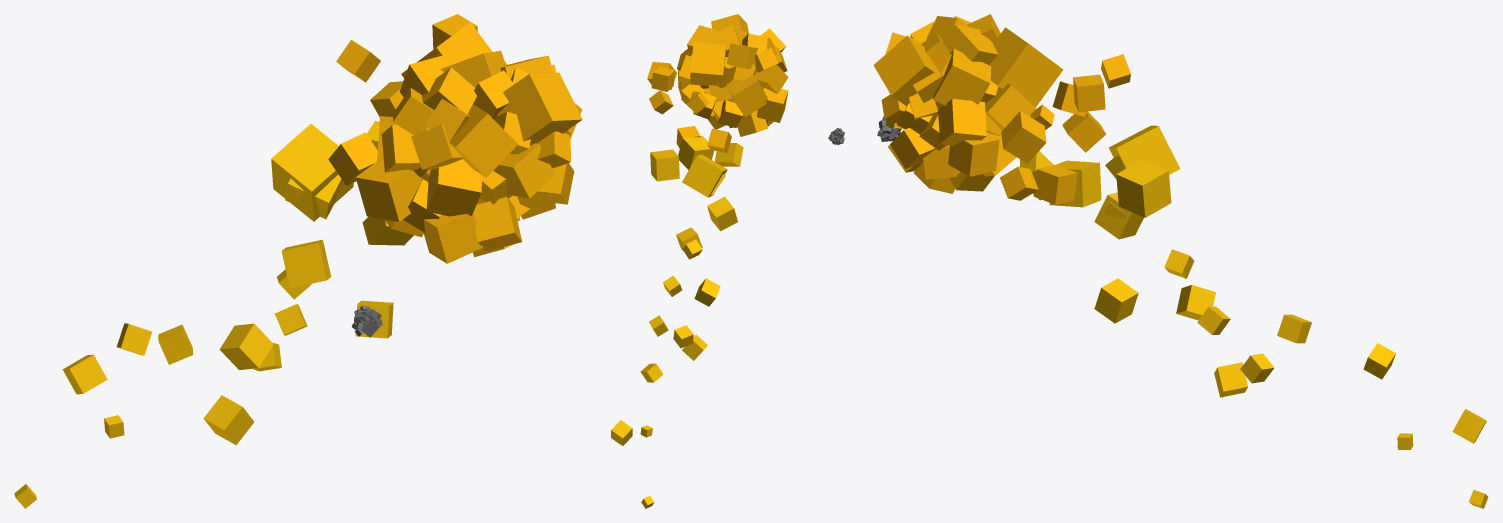
The model's file is harue_sun.obj.
The picture shows the model from 3 angles, left to right: view 1: azimuth 30°, elevation 25°; view 2: azimuth 150°, elevation 25°; view 3: azimuth 270°, elevation 25°; orthographic projection. The views are drawn at different scales.
Parts seen in each view (by area): view 1: s.0171, s.0127, s.0141, s.0128, s.0130, s.0143, s.0124, s.0144, s.0173, s.0177, s.0166, s.0181 (+25 smaller); view 2: s.0157, s.0171, s.0136, s.0170, s.0168, s.0141, s.0173, s.0138, s.0140, s.0142, s.0167, s.0126 (+19 smaller); view 3: s.0157, s.0170, s.0127, s.0155, s.0154, s.0171, s.0153, s.0160, s.0162, s.0126, s.0168, s.0178 (+14 smaller).
Boxes of the visible parts, x1,y1,x2,y2 form: s.0171: (271,124,353,221); s.0127: (497,72,582,145); s.0141: (355,161,422,221); s.0128: (449,105,518,177); s.0130: (426,159,482,216); s.0143: (423,213,482,263); s.0124: (493,143,555,198); s.0144: (473,197,521,251); s.0173: (281,239,331,288); s.0177: (219,323,273,369); s.0166: (328,132,377,185); s.0181: (203,395,254,444); s.0157: (690,42,725,85); s.0171: (682,154,727,197); s.0136: (726,75,767,116); s.0170: (650,149,679,181); s.0168: (678,136,714,170); s.0141: (757,88,788,122); s.0173: (707,196,737,231); s.0138: (726,43,758,68); s.0140: (754,65,788,93); s.0142: (737,110,768,136); s.0167: (714,143,743,166); s.0126: (708,25,740,56); s.0157: (989,27,1063,107); s.0170: (1116,159,1171,217); s.0127: (873,35,934,106); s.0155: (933,48,991,105); s.0154: (937,98,986,145); s.0171: (1109,125,1180,174); s.0153: (948,132,999,176); s.0160: (1001,111,1046,163); s.0162: (1033,165,1077,204); s.0126: (942,24,998,64); s.0168: (1049,160,1101,207); s.0178: (1094,278,1138,323).
Bounding box in the file's own units: 25.86 × 55.81 × 57.
